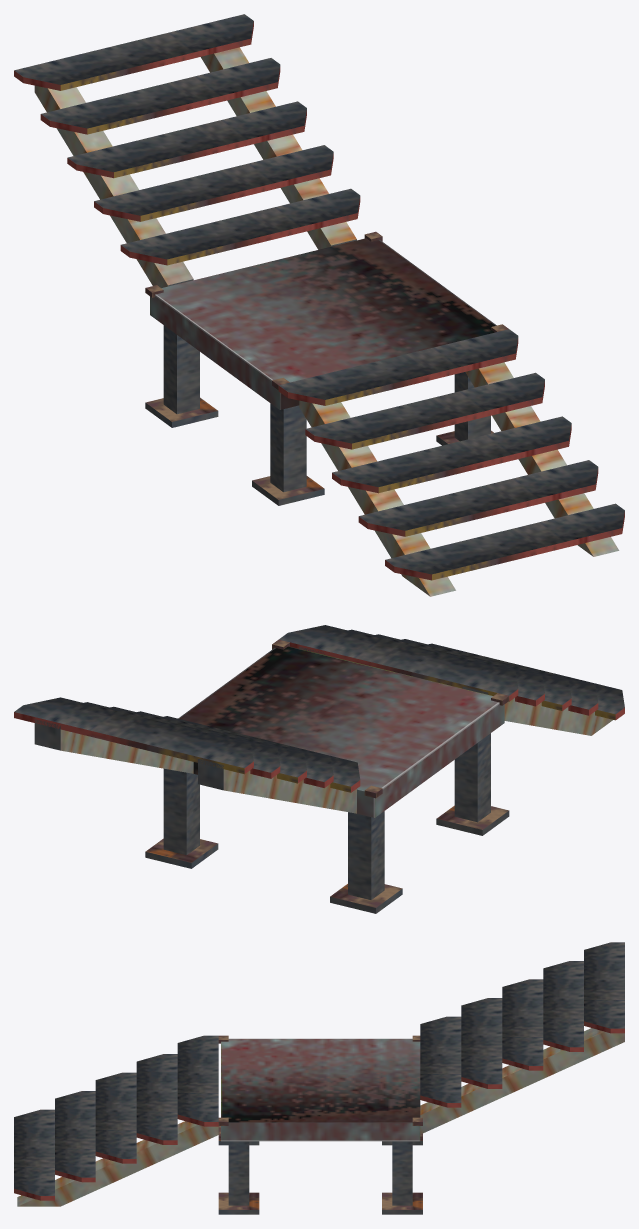
File: SM_METAL_STAIRS_04.fbx
3 views of the same model, one above another, from view 1: azimuth 30°, elevation 25°; view 2: azimuth 150°, elevation 25°; view 3: azimuth 270°, elevation 25° (orthographic). The views are drawn at different scales.
Parts seen in each view (by area): view 1: SM_METAL STAIRS_04; view 2: SM_METAL STAIRS_04; view 3: SM_METAL STAIRS_04.
Part boxes in pixels (x1,y1,x2,y2): SM_METAL STAIRS_04: (14,14,624,596); SM_METAL STAIRS_04: (14,625,624,913); SM_METAL STAIRS_04: (14,942,624,1214).
Size of the model in its own units: 2 by 2.01 by 5.97.
